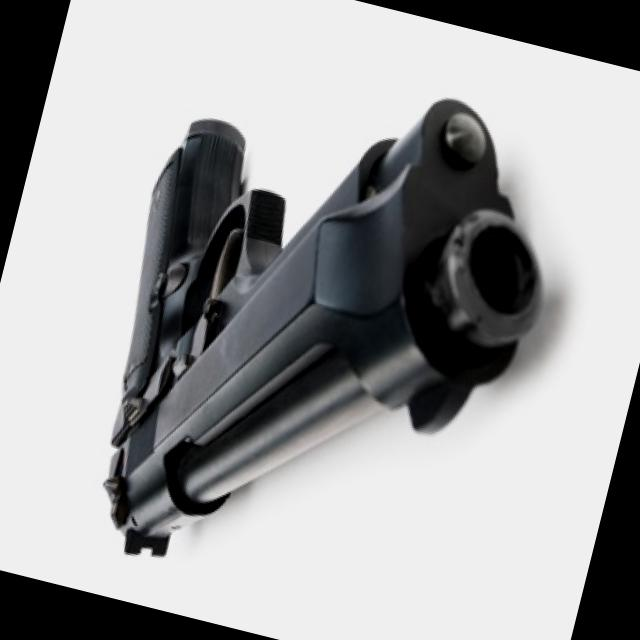handgun: (55, 10, 587, 639)
